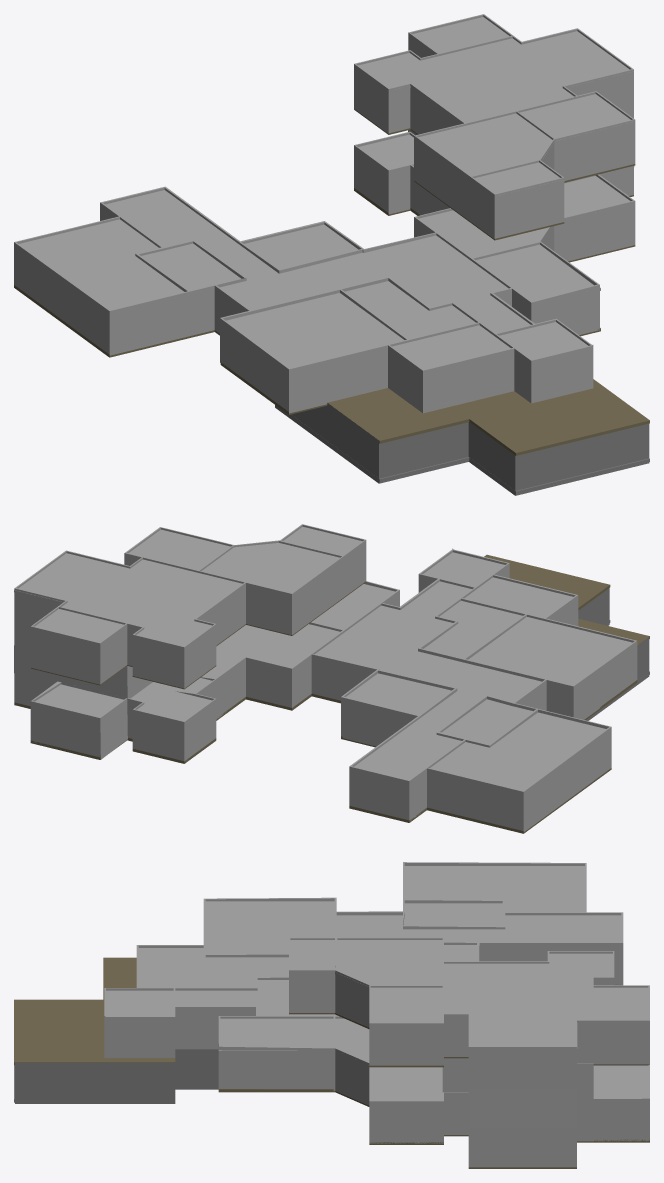
Rendered from Building.fbx.
3 renders of one model, top to bottom at view 1: azimuth 30°, elevation 25°; view 2: azimuth 150°, elevation 25°; view 3: azimuth 270°, elevation 25°, orthographic. The views are drawn at different scales.
Visible parts, largest first — view 1: Groundfloor_Ceiling, Groundfloor_WallsWDoors, Attic_Roof, Attic_WallsWDoors, Groundfloor_Floor, Basement_WallsWDoors, Basement_FLoor; view 2: Groundfloor_Ceiling, Groundfloor_WallsWDoors, Attic_Roof, Attic_WallsWDoors, Groundfloor_Floor, AtticTower_Walls, Basement_WallsWDoors, Attic_Floor; view 3: Groundfloor_Ceiling, Groundfloor_WallsWDoors, Attic_Roof, Attic_WallsWDoors, Groundfloor_Floor, Basement_WallsWDoors, AtticTower_Walls, Attic_Floor.
Part boxes in pixels (<box>): Groundfloor_Ceiling: <box>14,134,635,375</box>; Groundfloor_WallsWDoors: <box>14,130,635,413</box>; Attic_Roof: <box>358,17,635,198</box>; Attic_WallsWDoors: <box>354,14,635,238</box>; Groundfloor_Floor: <box>14,188,649,455</box>; Basement_WallsWDoors: <box>275,403,649,495</box>; Basement_FLoor: <box>275,405,649,494</box>; Groundfloor_Ceiling: <box>30,552,637,796</box>; Groundfloor_WallsWDoors: <box>14,548,637,831</box>; Attic_Roof: <box>14,527,362,646</box>; Attic_WallsWDoors: <box>14,524,366,688</box>; Groundfloor_Floor: <box>14,554,649,833</box>; AtticTower_Walls: <box>14,629,152,698</box>; Basement_WallsWDoors: <box>578,588,649,720</box>; Attic_Floor: <box>31,581,366,689</box>; Groundfloor_Ceiling: <box>106,866,649,1106</box>; Groundfloor_WallsWDoors: <box>104,862,649,1167</box>; Attic_Roof: <box>289,940,649,1050</box>; Attic_WallsWDoors: <box>289,937,649,1089</box>; Groundfloor_Floor: <box>14,957,649,1168</box>; Basement_WallsWDoors: <box>15,1049,218,1103</box>; AtticTower_Walls: <box>442,1058,593,1127</box>; Attic_Floor: <box>289,1013,649,1067</box>.
Bounding box in the file's own units: 0.1747 × 0.0501 × 0.1792.
